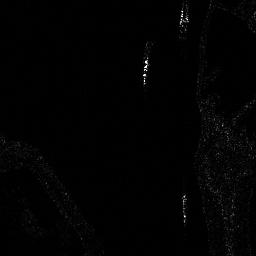ship: (178, 4, 189, 35), (140, 57, 150, 85)
